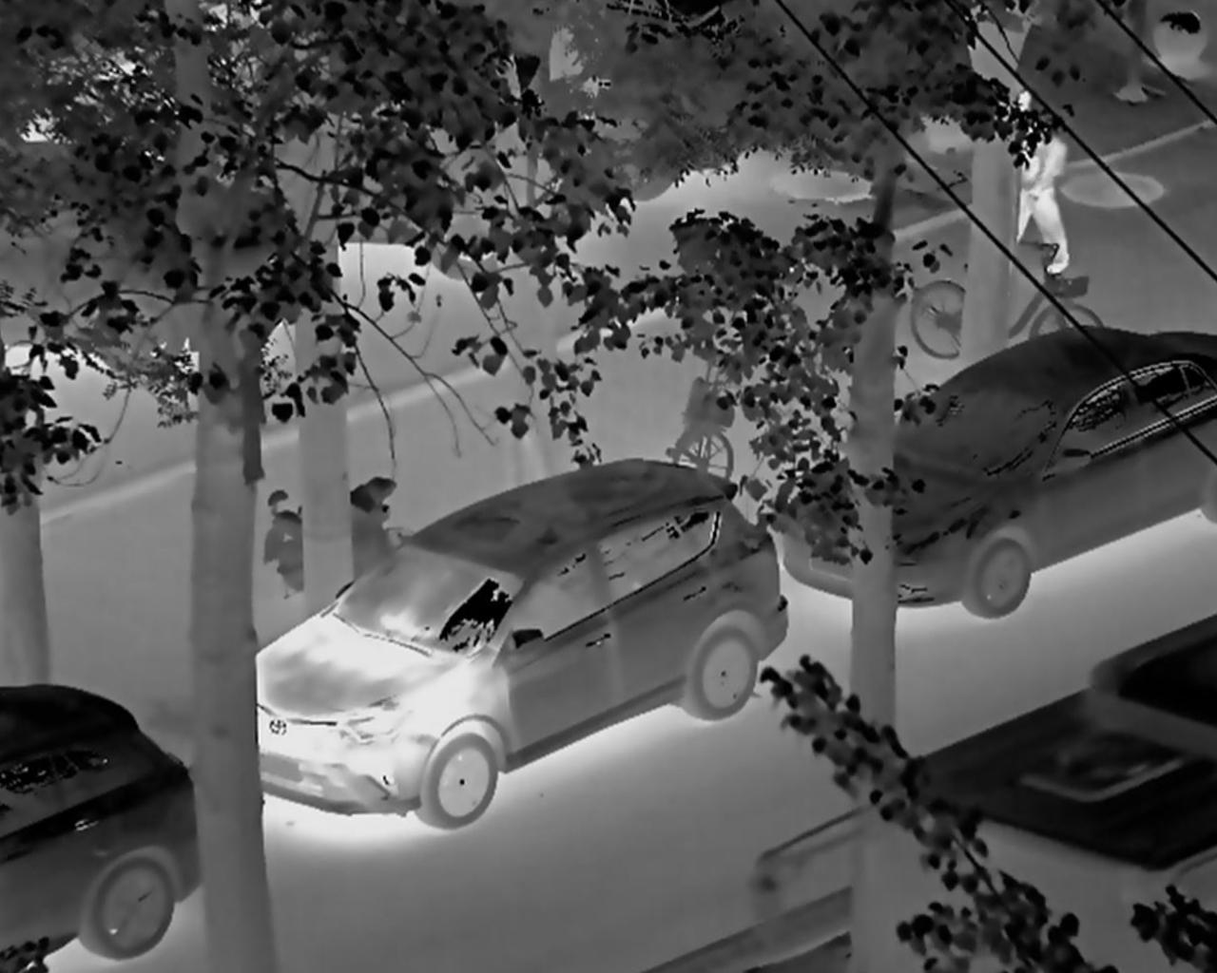person: (885, 128, 975, 337)
